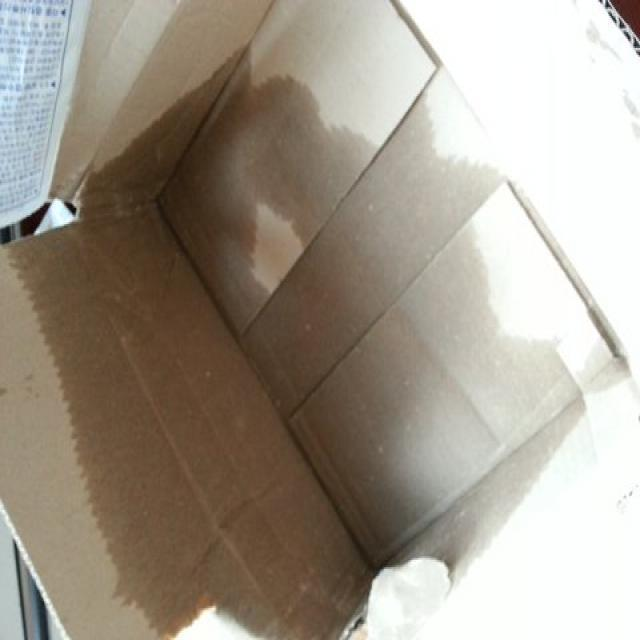wet: (106, 141, 564, 639)
